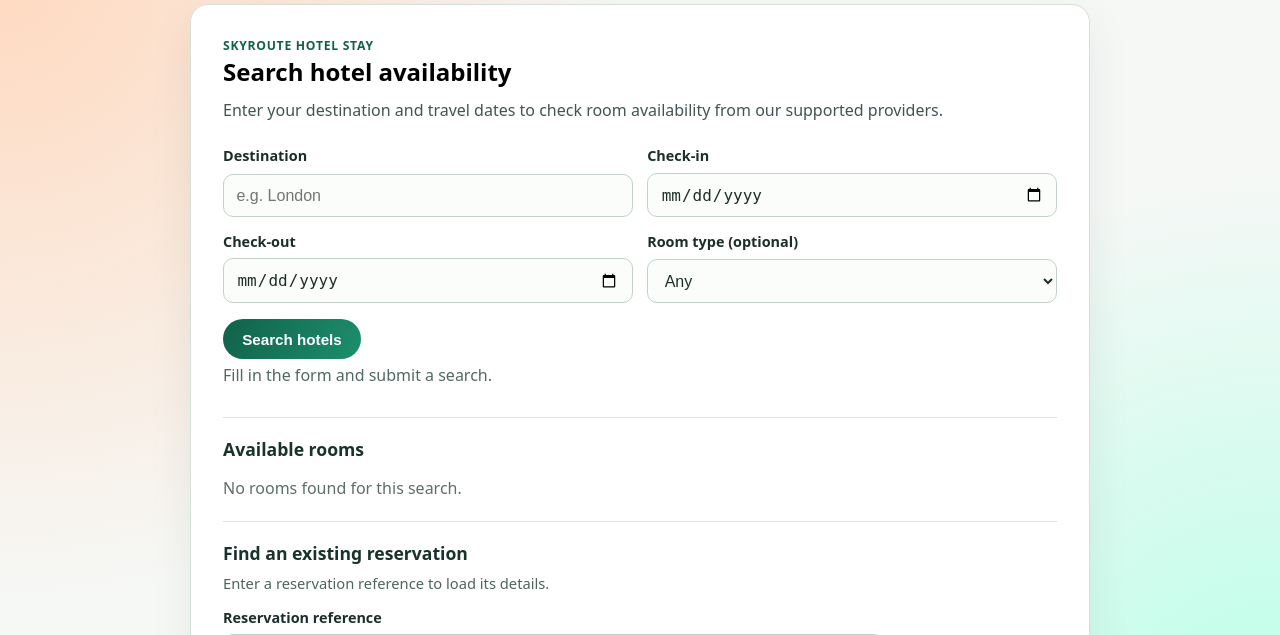
Scenario: App — reservation validation state › shows required field errors when reservation form is submitted empty
Type "London" into the field labelled "Destination" at [428, 196], box [223,174,633,218]
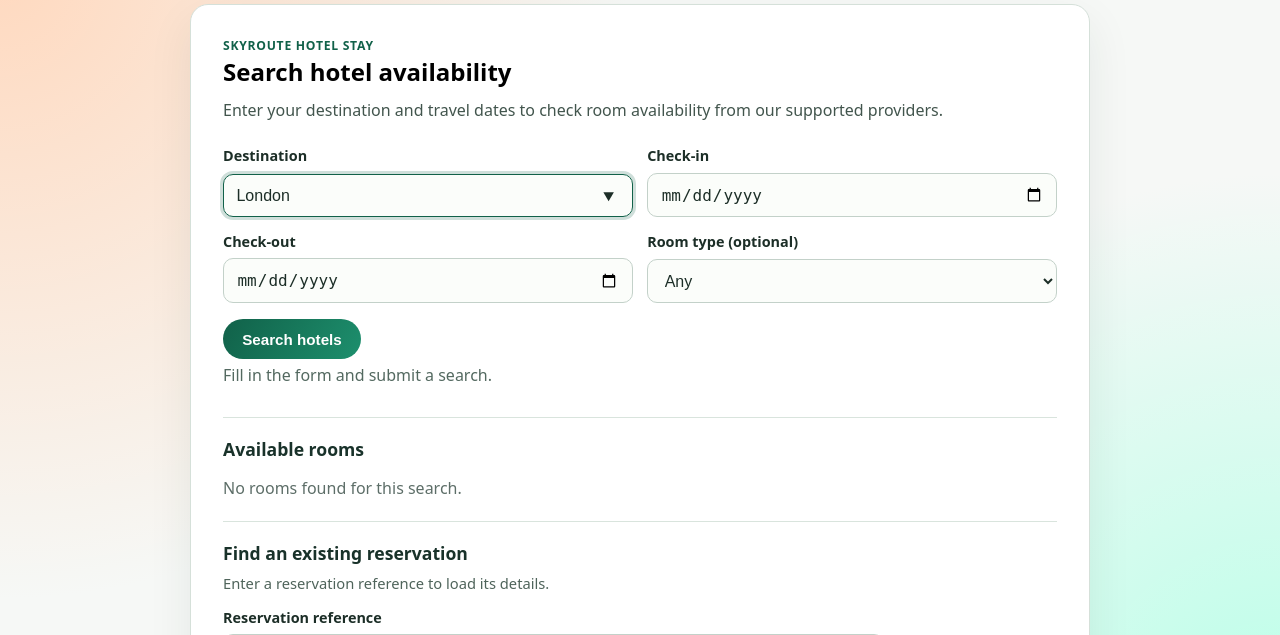
Type "2026-09-01" into the date field labelled "Check-in" at [852, 195], box [647,173,1057,218]
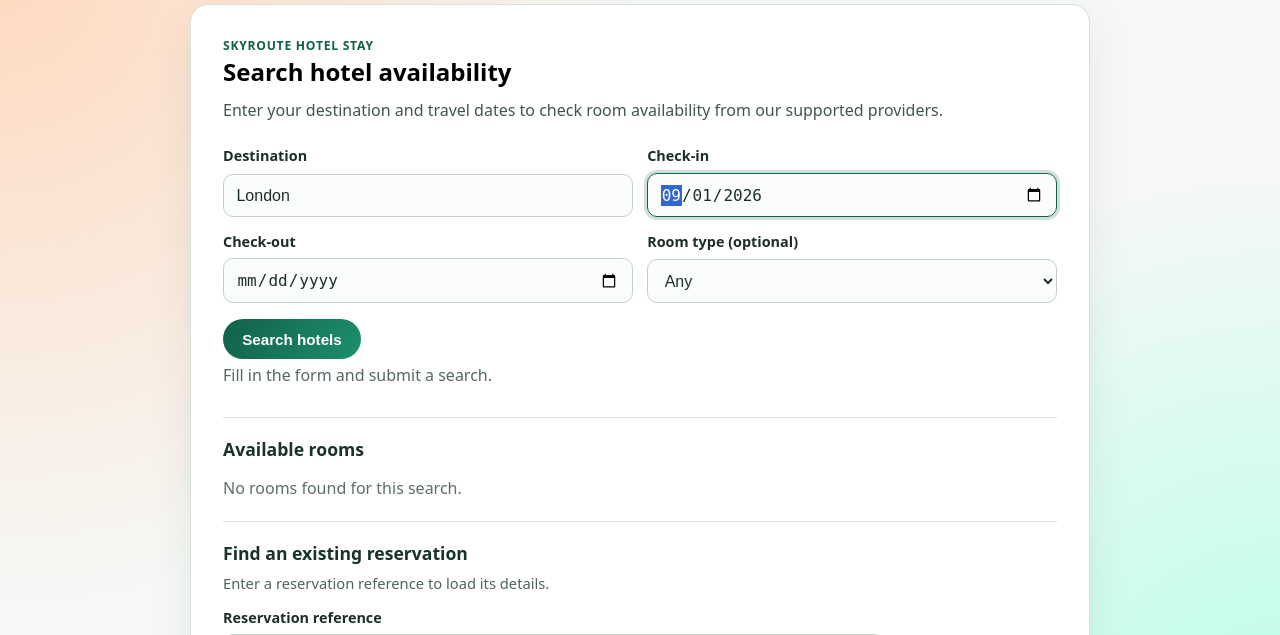
Type "2026-09-04" into the date field labelled "Check-out" at [428, 281], box [223,258,633,303]
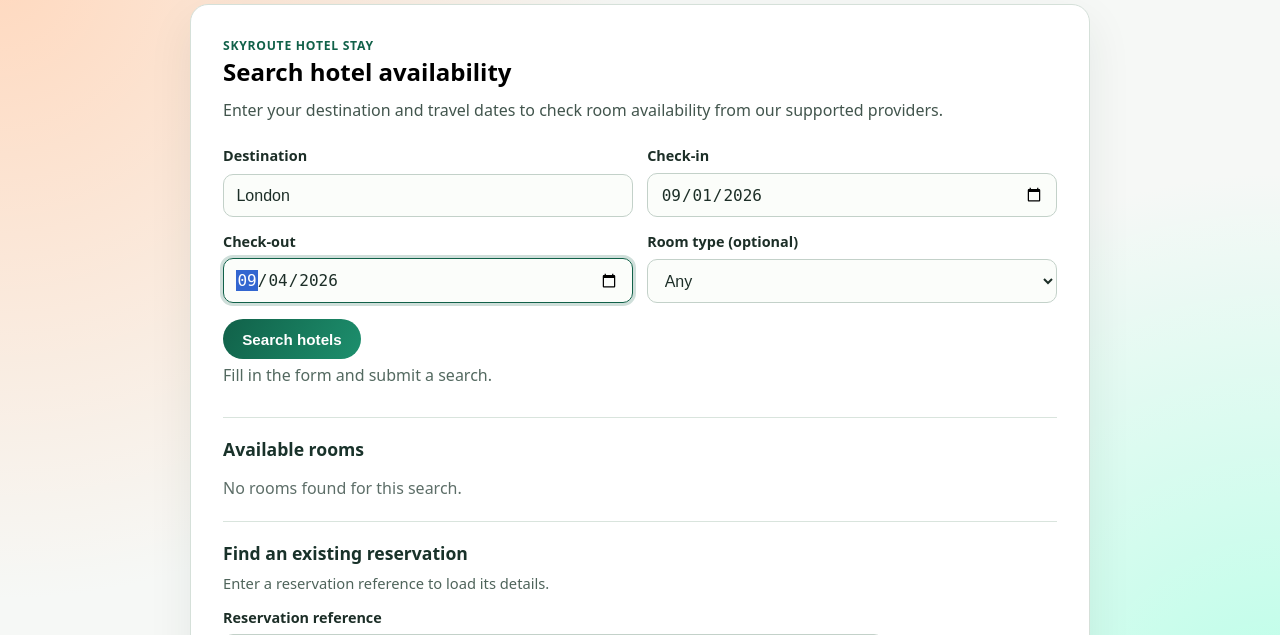
Click the button "Search hotels" at [292, 339], box [223,319,361,359]
(page scrolled)
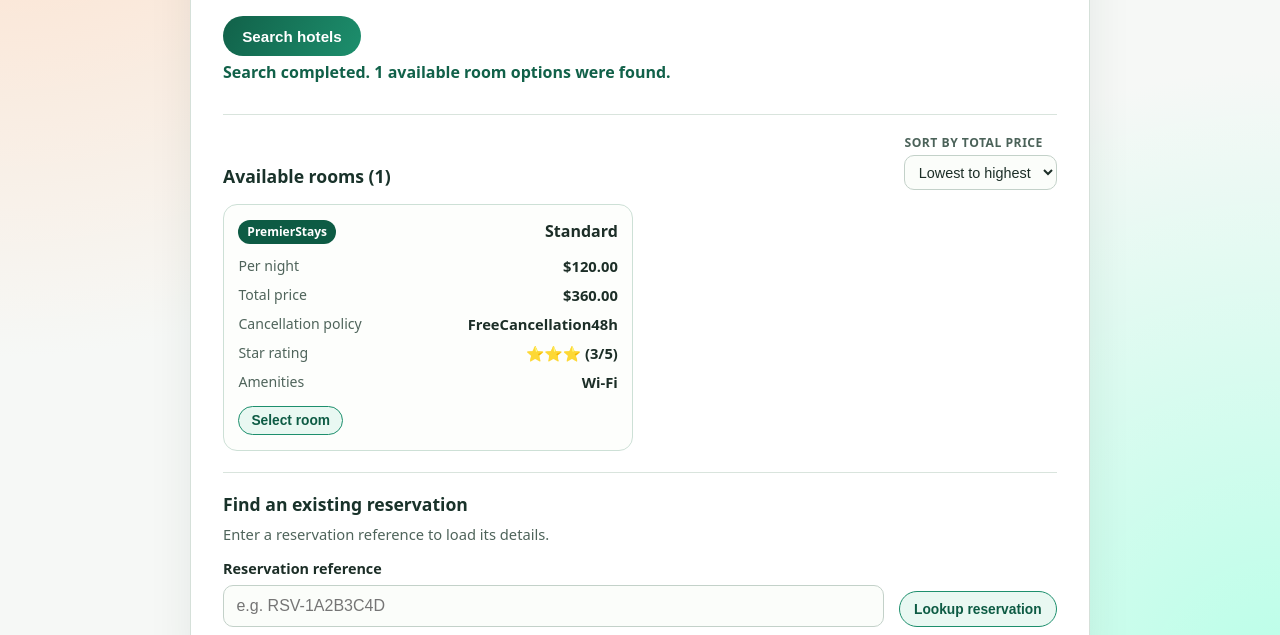
Click the button "Select room" at [291, 421], box [238,406,343,436]
(page scrolled)
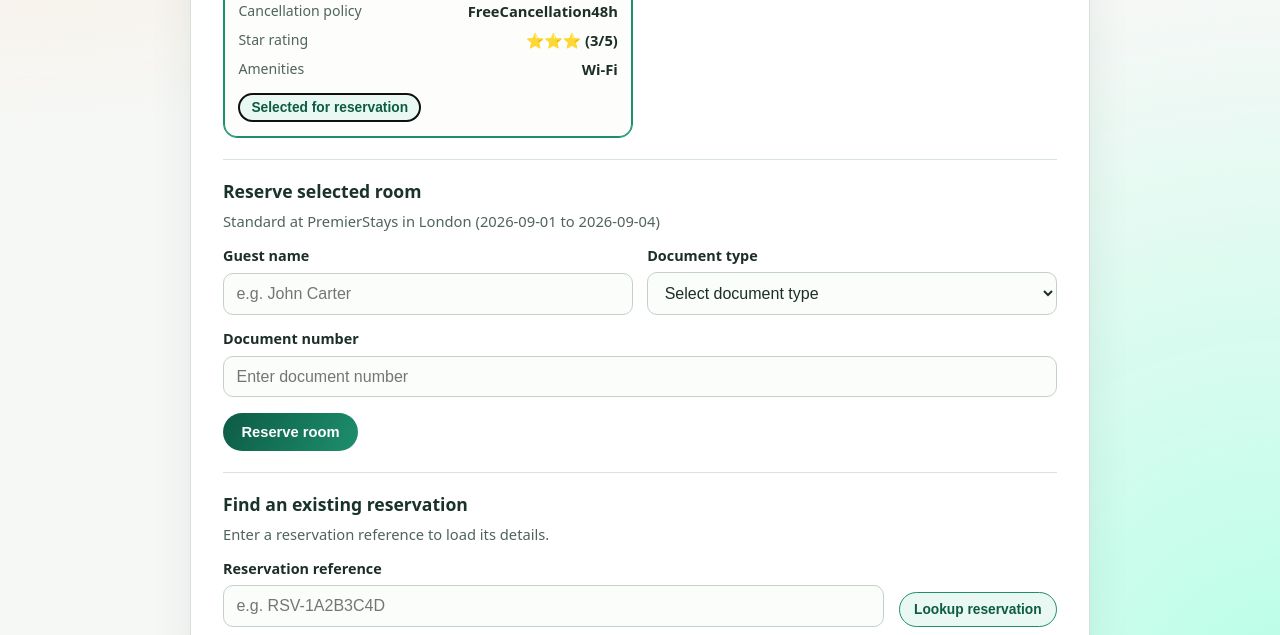
Click the button "Reserve room" at [290, 432], box [223,413,358,451]
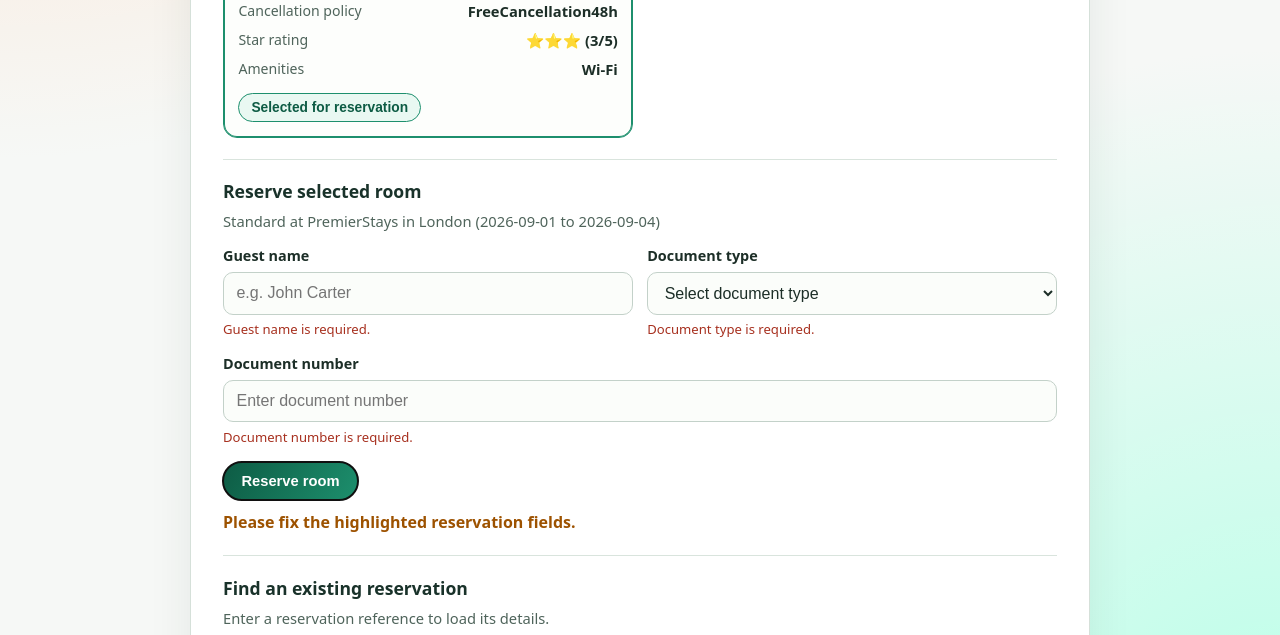
Expected: the text "Guest name is required." is shown, [223,320,370,338]
Expected: the text "Document type is required." is shown, [647,320,815,338]
Expected: the text "Document number is required." is shown, [223,428,413,446]
